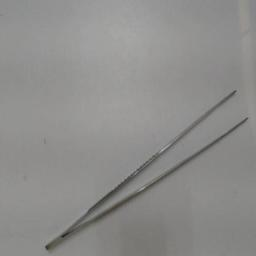DeBakey Dissector: (37, 78, 255, 252)
